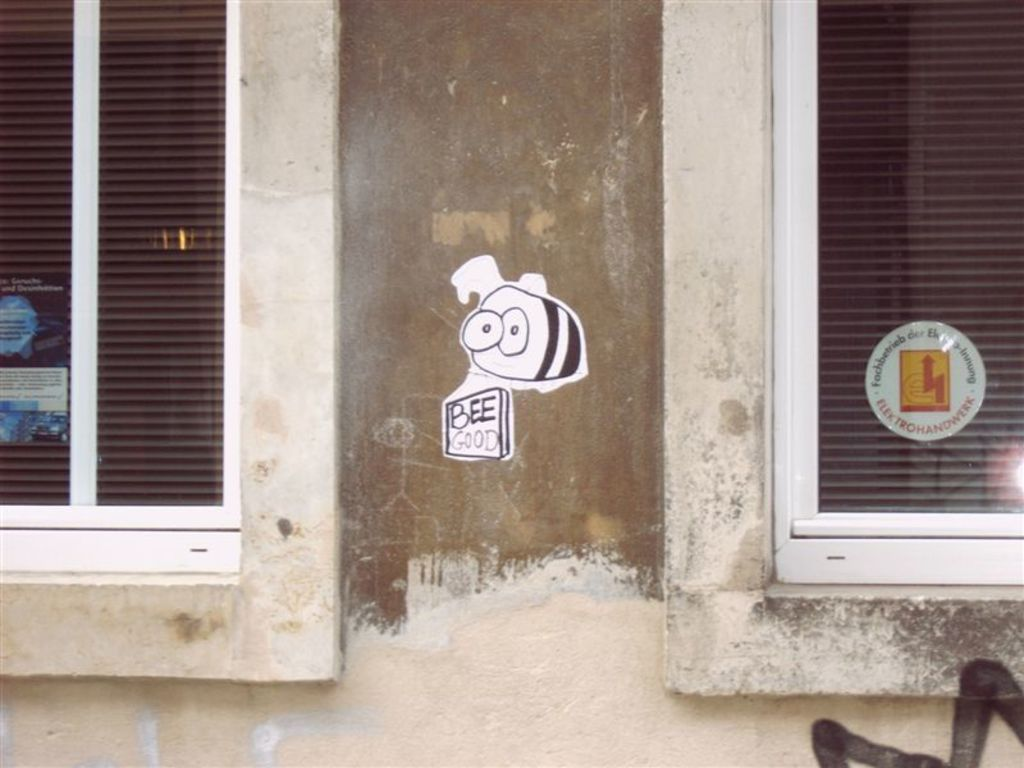Window: (0, 0, 346, 684), (759, 0, 1015, 590)
